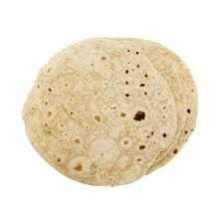roti: (22, 36, 198, 185)
